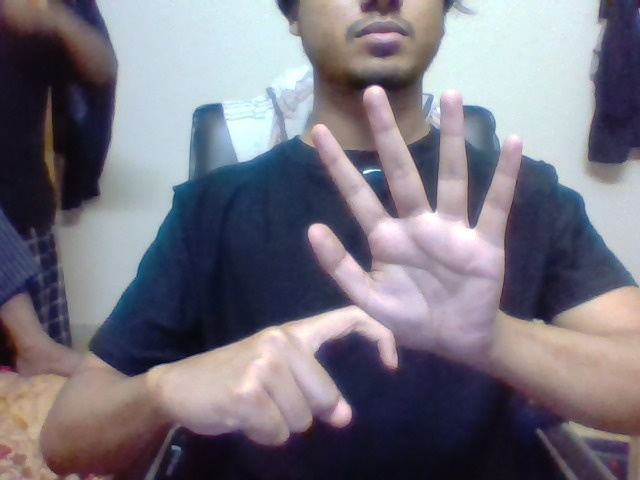R: (279, 304, 398, 431)
